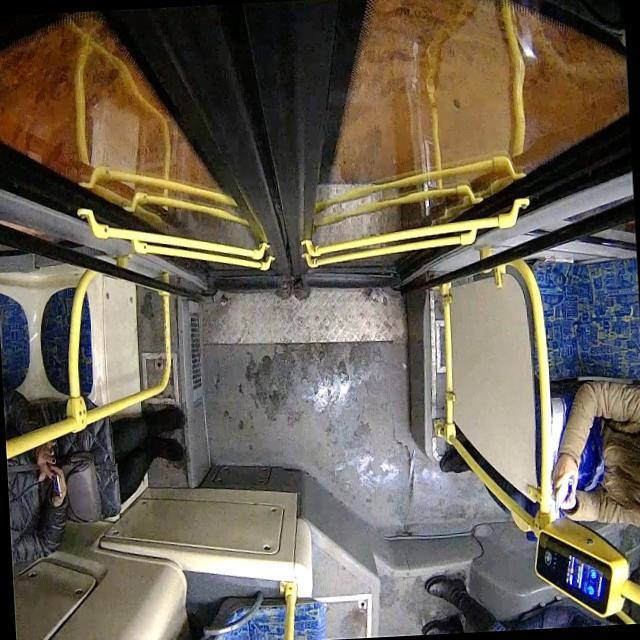bus-door: (0, 0, 632, 287)
